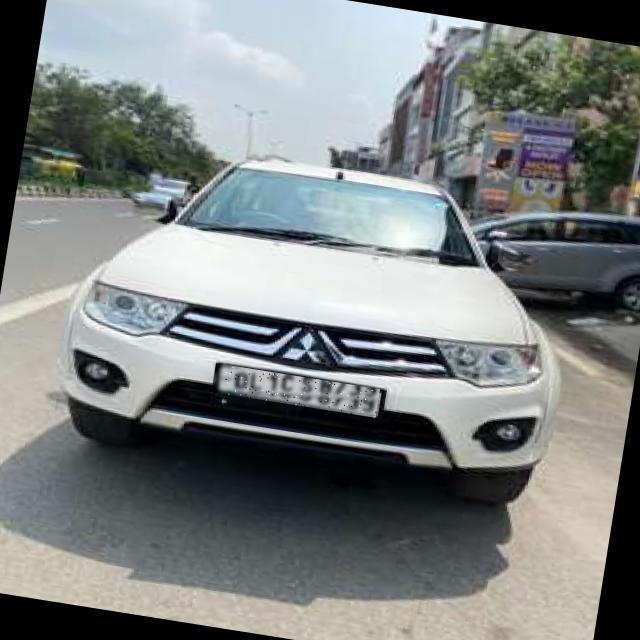Plate: (213, 364, 381, 419)
